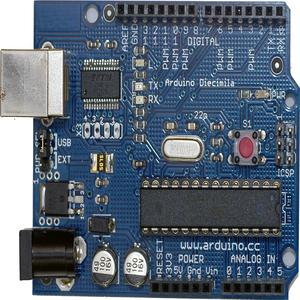duino: (13, 2, 299, 300)
